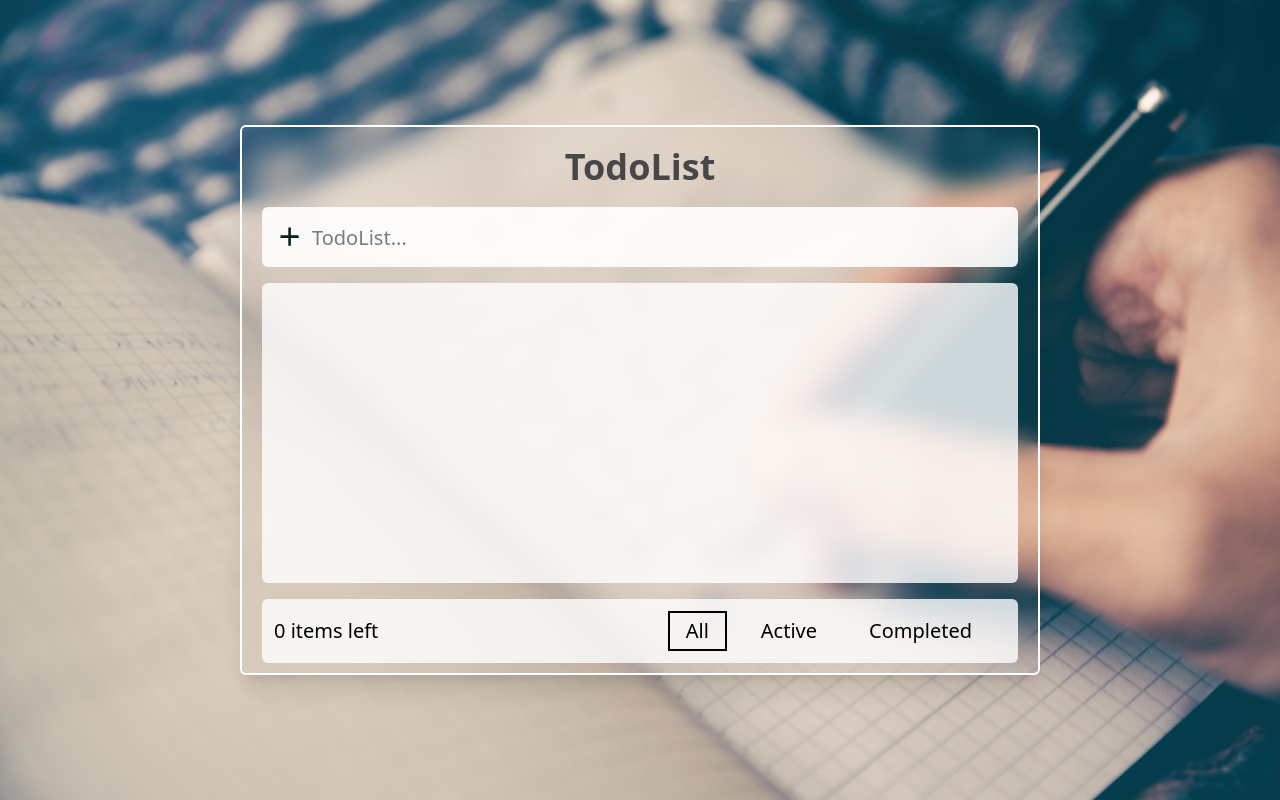
Test: create todo
Type "test todo" into the field with test id "text".
click(640, 237); type("test todo")  # box [262, 207, 1018, 267]
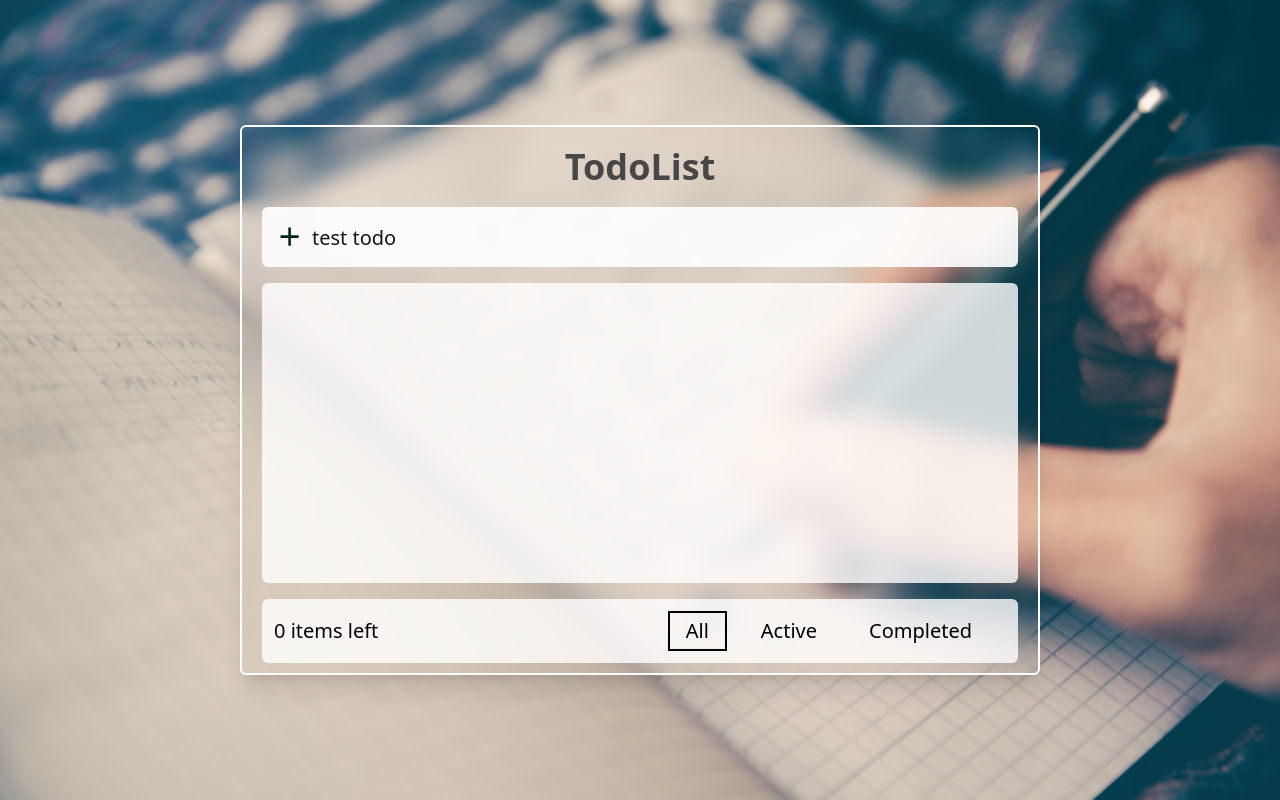
Submit the form from the field with test id "text", box [262, 207, 1018, 267]
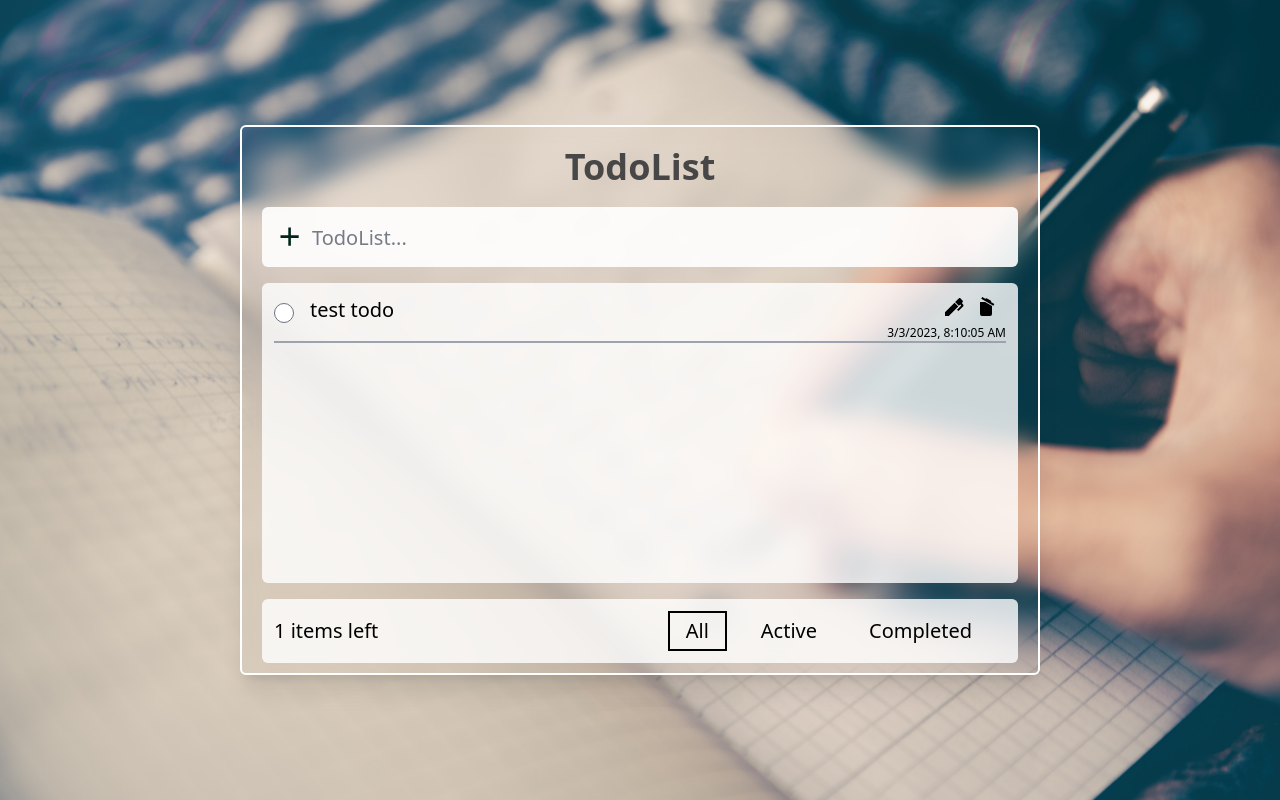
Expected: the text "test todo" is shown, [310, 296, 394, 323]
